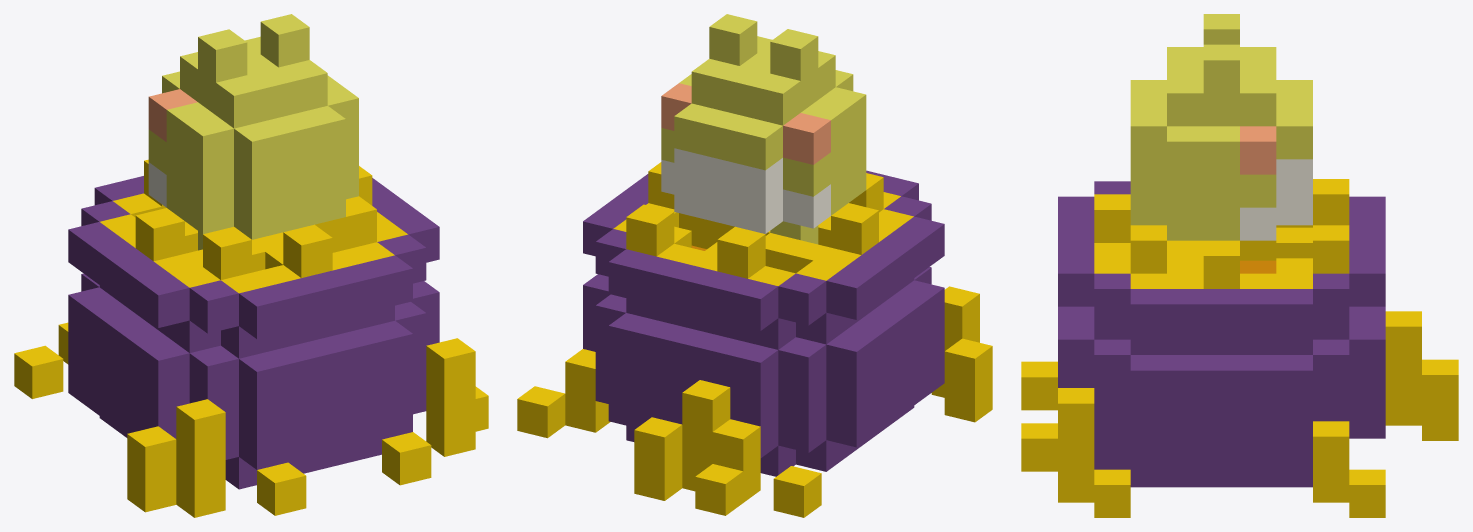
Rendered from Dinero.fbx.
3 renders of one model, left to right at view 1: azimuth 30°, elevation 25°; view 2: azimuth 150°, elevation 25°; view 3: azimuth 270°, elevation 25°, orthographic. The views are drawn at different scales.
Visible parts, largest first — view 1: Dinero; view 2: Dinero; view 3: Dinero.
Part boxes in pixels (bbox=[...]): Dinero: bbox=[14, 14, 488, 517]; Dinero: bbox=[517, 14, 992, 517]; Dinero: bbox=[1021, 14, 1458, 517].
Bounding box in the file's own units: 110 × 120 × 120.
